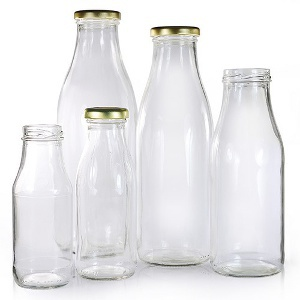emptybottle: (58, 9, 136, 266), (138, 26, 216, 266), (213, 69, 284, 277), (76, 107, 137, 280), (12, 124, 73, 290)
